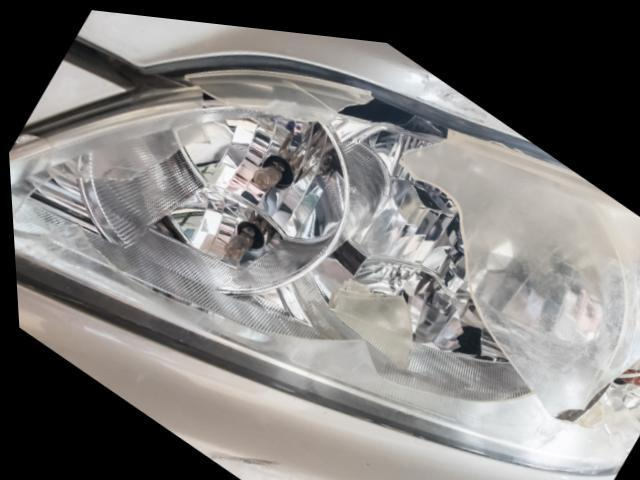lamp broken: (7, 55, 640, 460)
scratch: (414, 68, 489, 110), (197, 440, 288, 473)
